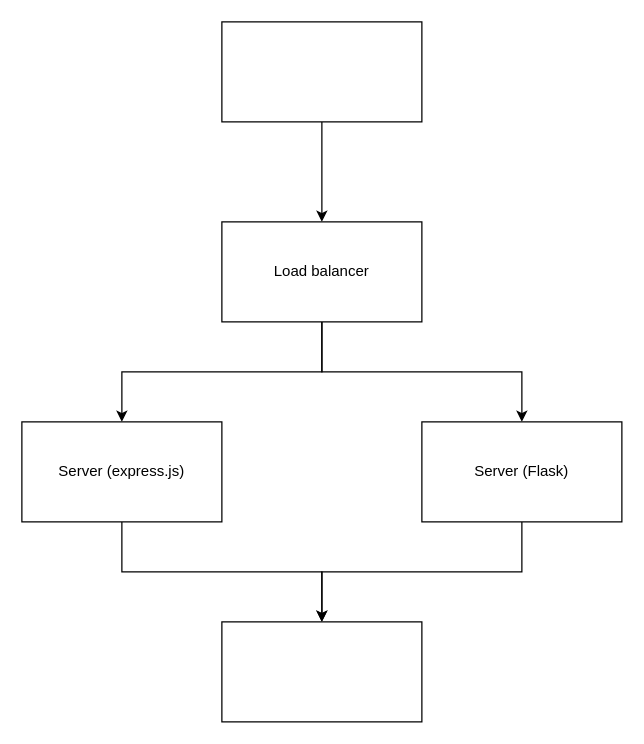
Image size: 644x744. Some labels were removed from this diagram. The shapes that lost their labels are listed below. From the top down, each one's centre as x and y in pixels, then its label:
At (321,71): "Browser".
At (321,671): "Database (redis)".
